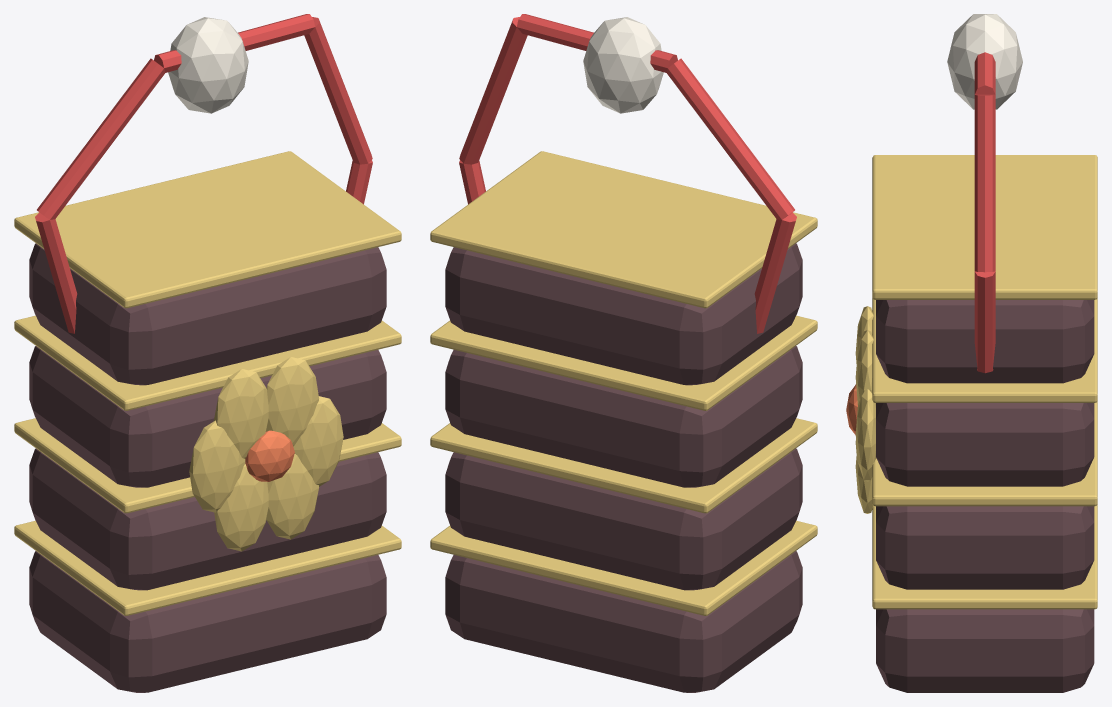
Rendered from writing_inro.glb.
3 views of the same model, side by side, from view 1: azimuth 30°, elevation 25°; view 2: azimuth 150°, elevation 25°; view 3: azimuth 270°, elevation 25° (orthographic).
Visible parts, largest first — view 1: Gold division piping.003, Individual nested inro compartment, Individual nested inro compartment.003, Individual nested inro compartment.001, Individual nested inro compartment.002, Gold division piping, Gold division piping.002, Ivory ojime clasp, Gold division piping.001, Silk inro cord_01, Makie inro plum crest_petal03, Makie inro plum crest_petal01 (+9 smaller); view 2: Gold division piping.003, Individual nested inro compartment.001, Individual nested inro compartment, Individual nested inro compartment.002, Individual nested inro compartment.003, Gold division piping.001, Gold division piping.002, Gold division piping, Ivory ojime clasp, Silk inro cord_01, Silk inro cord_03, Silk inro cord_00 (+2 smaller); view 3: Gold division piping.003, Individual nested inro compartment, Individual nested inro compartment.001, Individual nested inro compartment.002, Individual nested inro compartment.003, Gold division piping, Gold division piping.002, Gold division piping.001, Ivory ojime clasp, Silk inro cord_03, Silk inro cord_04, Makie inro plum crest_petal00 (+5 smaller).
Part boxes in pixels (x1,y1,x2,y2): Gold division piping.003: (14,151,401,308); Individual nested inro compartment: (29,551,386,692); Individual nested inro compartment.003: (29,243,386,385); Individual nested inro compartment.001: (29,448,386,590); Individual nested inro compartment.002: (29,346,386,487); Gold division piping: (14,520,401,615); Gold division piping.002: (14,315,401,410); Ivory ojime clasp: (168,17,248,113); Gold division piping.001: (14,418,401,513); Silk inro cord_01: (37,58,165,219); Makie inro plum crest_petal03: (189,420,245,512); Makie inro plum crest_petal01: (266,357,318,446); Gold division piping.003: (430,151,817,308); Individual nested inro compartment.001: (445,448,802,590); Individual nested inro compartment: (445,551,802,692); Individual nested inro compartment.002: (445,346,802,487); Individual nested inro compartment.003: (445,243,802,385); Gold division piping.001: (430,418,817,513); Gold division piping.002: (430,315,817,410); Gold division piping: (430,520,817,615); Ivory ojime clasp: (583,17,663,113); Silk inro cord_01: (666,58,794,219); Silk inro cord_03: (459,17,527,164); Silk inro cord_00: (754,212,796,333); Gold division piping.003: (872,155,1097,299); Individual nested inro compartment: (876,609,1094,692); Individual nested inro compartment.001: (876,506,1094,589); Individual nested inro compartment.002: (876,403,1094,486); Individual nested inro compartment.003: (876,300,1094,383); Gold division piping: (872,504,1097,609); Gold division piping.002: (872,297,1097,402); Gold division piping.001: (872,401,1097,506); Ivory ojime clasp: (947,14,1022,109); Silk inro cord_03: (974,94,995,272); Silk inro cord_04: (974,271,995,373); Makie inro plum crest_petal00: (855,389,876,481).
Bounding box in the file's own units: 1.11 × 1.95 × 0.7134.
